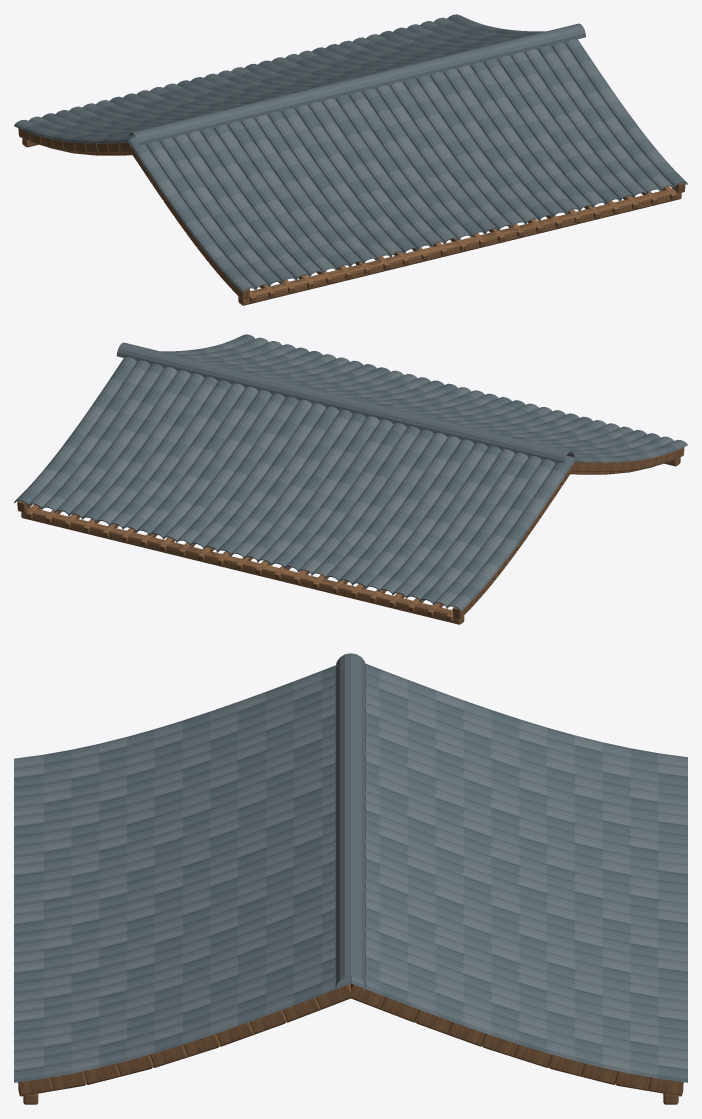
File: tea-roof-v1.glb
3 views of the same model, one above another, from view 1: azimuth 30°, elevation 25°; view 2: azimuth 150°, elevation 25°; view 3: azimuth 270°, elevation 25° (orthographic). The views are drawn at different scales.
Parts seen in each view (by area): view 1: roof; view 2: roof; view 3: roof.
Part boxes in pixels (x1,y1,x2,y2): roof: [14, 14, 687, 305]; roof: [14, 334, 687, 624]; roof: [14, 653, 687, 1104].
Size of the model in its own units: 7.11 by 1.38 by 6.19.
Materials: 6 (1 with a texture image).
